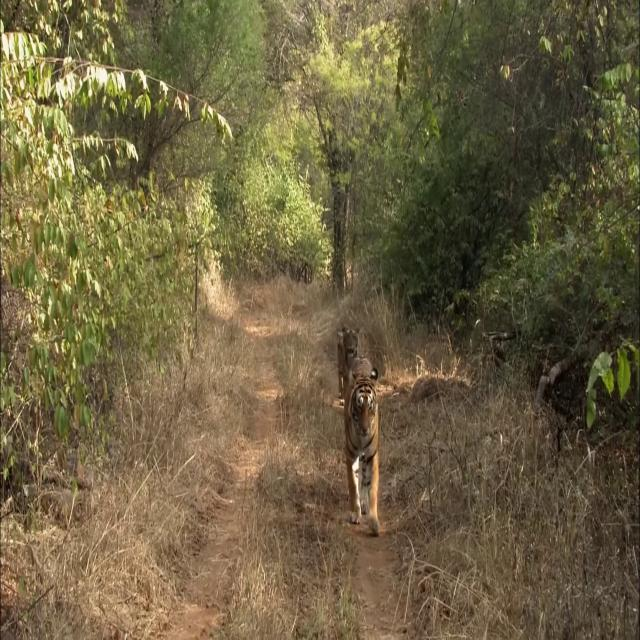tiger: (344, 356, 379, 536)
